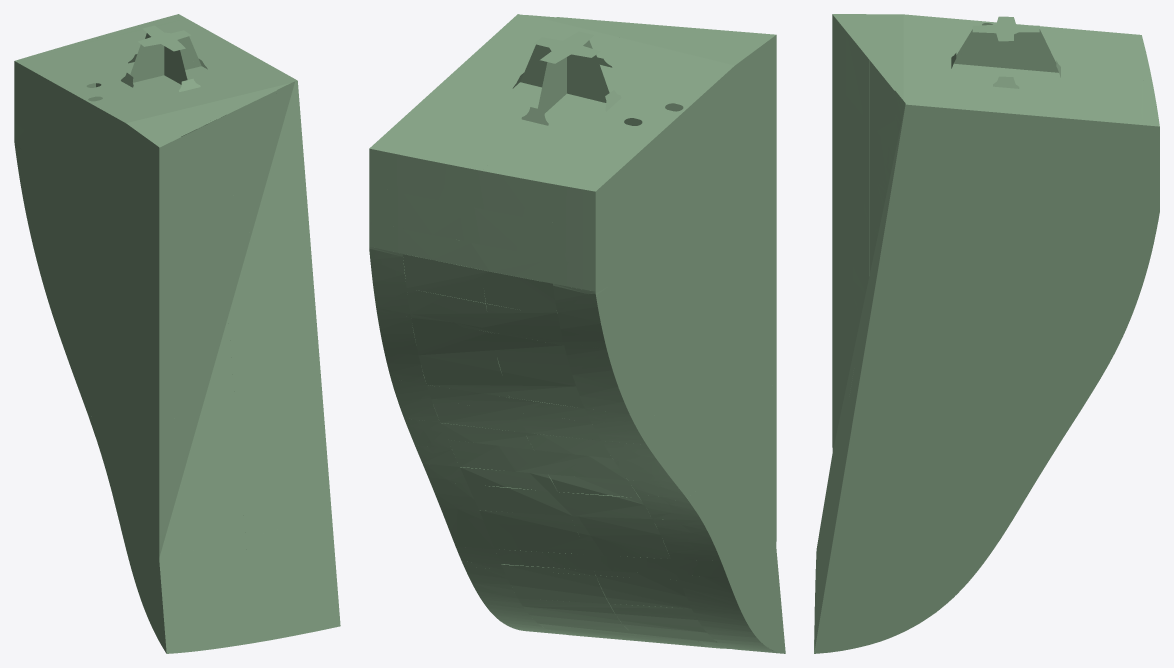
File: DIRTY_SLOP_TK_PS.glb
The picture shows the model from 3 angles, left to right: view 1: azimuth 30°, elevation 25°; view 2: azimuth 150°, elevation 25°; view 3: azimuth 270°, elevation 25°; orthographic projection. The views are drawn at different scales.
Parts seen in each view (by area): view 1: PL_LBHDxNo6CenterTankP_037002-20.5_NVA32_1993, PL_LBHDxNo6CenterTankP_027002-17_NVA32_1993, PL_LBHDxNo6CenterTankP_046002-23_NVA32_1993, PL_SideTransBHDxBHD51P_009004-14_NVA_1993, PL_LBHDxNo6CenterTankP_023005-17.5_NVA32_1993, PL_SideTransBHDxBHD51P_010002-14_NVA32_1993, PL_SideTransBHDxBHD51P_006002-15.5_NVA32_1993, PL_LBHDxNo6CenterTankP_012005-16_NVA32_1993, PL_SideTransBHDxBHD51P_004002-17_NVA32_1993, PL_LBHDxNo6CenterTankP_007002-15_NVA32_1993, PL_SideTransBHDxBHD51P_015003-13.5_NVA_1993, PL_LBHDxNo6CenterTankP_014002-17.5_NVA32_1993 (+86 smaller); view 2: PL_OuterShellxSlopTankP_011005-17_NVA32_1993, PL_OuterShellxSlopTankP_009002-17_NVA32_1993, PL_SideTransBHDxBHD51P_009004-14_NVA_1993, PL_OuterShellxSlopTankP_007002-17_NVA32_1993, PL_OuterShellxSlopTankP_006002-17_NVA32_1993, PL_SideTransBHDxBHD51P_010002-14_NVA32_1993, PL_OuterShellxSlopTankP_005005-17_NVA32_1993, PL_SideTransBHDxBHD51P_006002-15.5_NVA32_1993, PL_OuterShellxSlopTankP_010004-17_NVA32_1993, PL_OuterShellxSlopTankP_014002-17_NVA32_1993, PL_OuterShellxSlopTankP_004002-17.5_NVA32_1993, PL_UDxSlopTankP_009001-15_NVA32_1993 (+79 smaller); view 3: PL_SideTransBHDxBHD53P_004001-17_NVA32_1993, PL_SideTransBHDxBHD53P_007002-14.5_NVA32_1993, PL_SideTransBHDxBHD53P_002002-18.5_NVA32_1993, PL_SideTransBHDxBHD53P_001001-19.5_NVA32_1993, PL_SideTransBHDxBHD53P_003001-17_NVA32_1993, PL_SideTransBHDxBHD53P_008001-14.5_NVA32_1993, PL_SideTransBHDxBHD53P_009004-14_NVA_1993, PL_SideTransBHDxBHD53P_009002-14_NVA_1993, PL_SideTransBHDxBHD53P_014001-13.5_NVA_1993, PL_SideTransBHDxBHD53P_013002-13.5_NVA_1993, PL_SideTransBHDxBHD53P_015001-13.5_NVA_1993, PL_SideTransBHDxBHD53P_016004-13.5_NVA_1993 (+55 smaller).
Boxes of the visible parts, x1,y1,x2,y2 form: PL_LBHDxNo6CenterTankP_037002-20.5_NVA32_1993: [194, 564, 314, 650]; PL_LBHDxNo6CenterTankP_027002-17_NVA32_1993: [206, 425, 303, 521]; PL_LBHDxNo6CenterTankP_046002-23_NVA32_1993: [185, 91, 276, 194]; PL_SideTransBHDxBHD51P_009004-14_NVA_1993: [18, 169, 95, 293]; PL_LBHDxNo6CenterTankP_023005-17.5_NVA32_1993: [214, 517, 308, 586]; PL_SideTransBHDxBHD51P_010002-14_NVA32_1993: [105, 233, 159, 340]; PL_SideTransBHDxBHD51P_006002-15.5_NVA32_1993: [105, 362, 159, 465]; PL_LBHDxNo6CenterTankP_012005-16_NVA32_1993: [229, 378, 298, 440]; PL_SideTransBHDxBHD51P_004002-17_NVA32_1993: [105, 426, 159, 536]; PL_LBHDxNo6CenterTankP_007002-15_NVA32_1993: [248, 289, 292, 365]; PL_SideTransBHDxBHD51P_015003-13.5_NVA_1993: [95, 106, 137, 192]; PL_LBHDxNo6CenterTankP_014002-17.5_NVA32_1993: [185, 187, 239, 259]; PL_OuterShellxSlopTankP_011005-17_NVA32_1993: [411, 318, 584, 408]; PL_OuterShellxSlopTankP_009002-17_NVA32_1993: [403, 254, 563, 341]; PL_SideTransBHDxBHD51P_009004-14_NVA_1993: [600, 249, 696, 390]; PL_OuterShellxSlopTankP_007002-17_NVA32_1993: [460, 467, 652, 519]; PL_OuterShellxSlopTankP_006002-17_NVA32_1993: [479, 510, 670, 558]; PL_SideTransBHDxBHD51P_010002-14_NVA32_1993: [708, 191, 776, 325]; PL_OuterShellxSlopTankP_005005-17_NVA32_1993: [501, 564, 691, 608]; PL_SideTransBHDxBHD51P_006002-15.5_NVA32_1993: [708, 352, 776, 481]; PL_OuterShellxSlopTankP_010004-17_NVA32_1993: [403, 193, 552, 258]; PL_OuterShellxSlopTankP_014002-17_NVA32_1993: [426, 385, 600, 440]; PL_OuterShellxSlopTankP_004002-17.5_NVA32_1993: [518, 598, 716, 642]; PL_UDxSlopTankP_009001-15_NVA32_1993: [425, 108, 597, 171]; PL_SideTransBHDxBHD53P_004001-17_NVA32_1993: [836, 444, 951, 519]; PL_SideTransBHDxBHD53P_007002-14.5_NVA32_1993: [1006, 310, 1133, 375]; PL_SideTransBHDxBHD53P_002002-18.5_NVA32_1993: [826, 537, 1001, 584]; PL_SideTransBHDxBHD53P_001001-19.5_NVA32_1993: [814, 584, 965, 653]; PL_SideTransBHDxBHD53P_003001-17_NVA32_1993: [951, 444, 1058, 519]; PL_SideTransBHDxBHD53P_008001-14.5_NVA32_1993: [860, 310, 951, 375]; PL_SideTransBHDxBHD53P_009004-14_NVA_1993: [1006, 270, 1146, 310]; PL_SideTransBHDxBHD53P_009002-14_NVA_1993: [1006, 237, 1154, 270]; PL_SideTransBHDxBHD53P_014001-13.5_NVA_1993: [1024, 115, 1115, 169]; PL_SideTransBHDxBHD53P_013002-13.5_NVA_1993: [1024, 189, 1115, 237]; PL_SideTransBHDxBHD53P_015001-13.5_NVA_1993: [894, 104, 968, 169]; PL_SideTransBHDxBHD53P_016004-13.5_NVA_1993: [883, 189, 968, 237].
Size of the model in its own units: 10.48 by 31.47 by 17.01.
